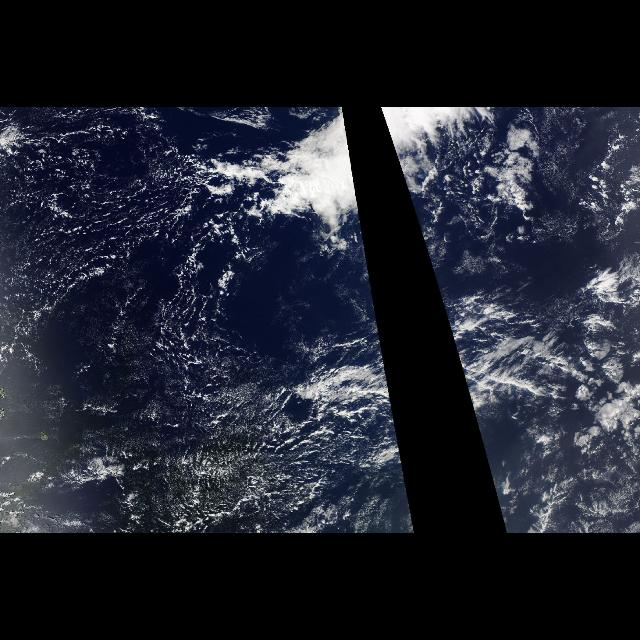Fish: (444, 308, 574, 412)
Gravel: (9, 119, 389, 533)
